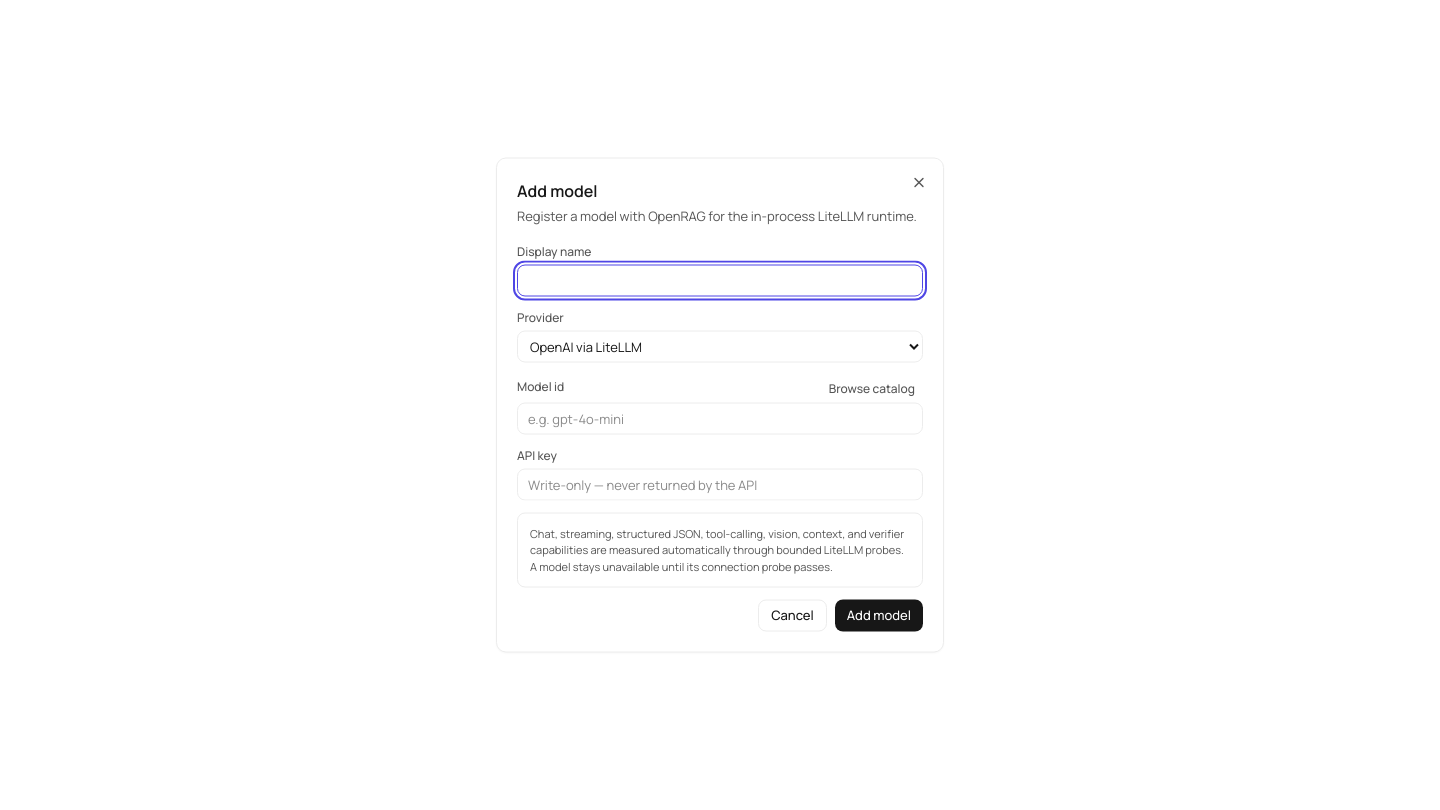
Test: api key is write-only and absent for ollama
Select "Ollama via LiteLLM" in the dropdown labelled "Provider" at [720, 346], box [517,330,923,362]
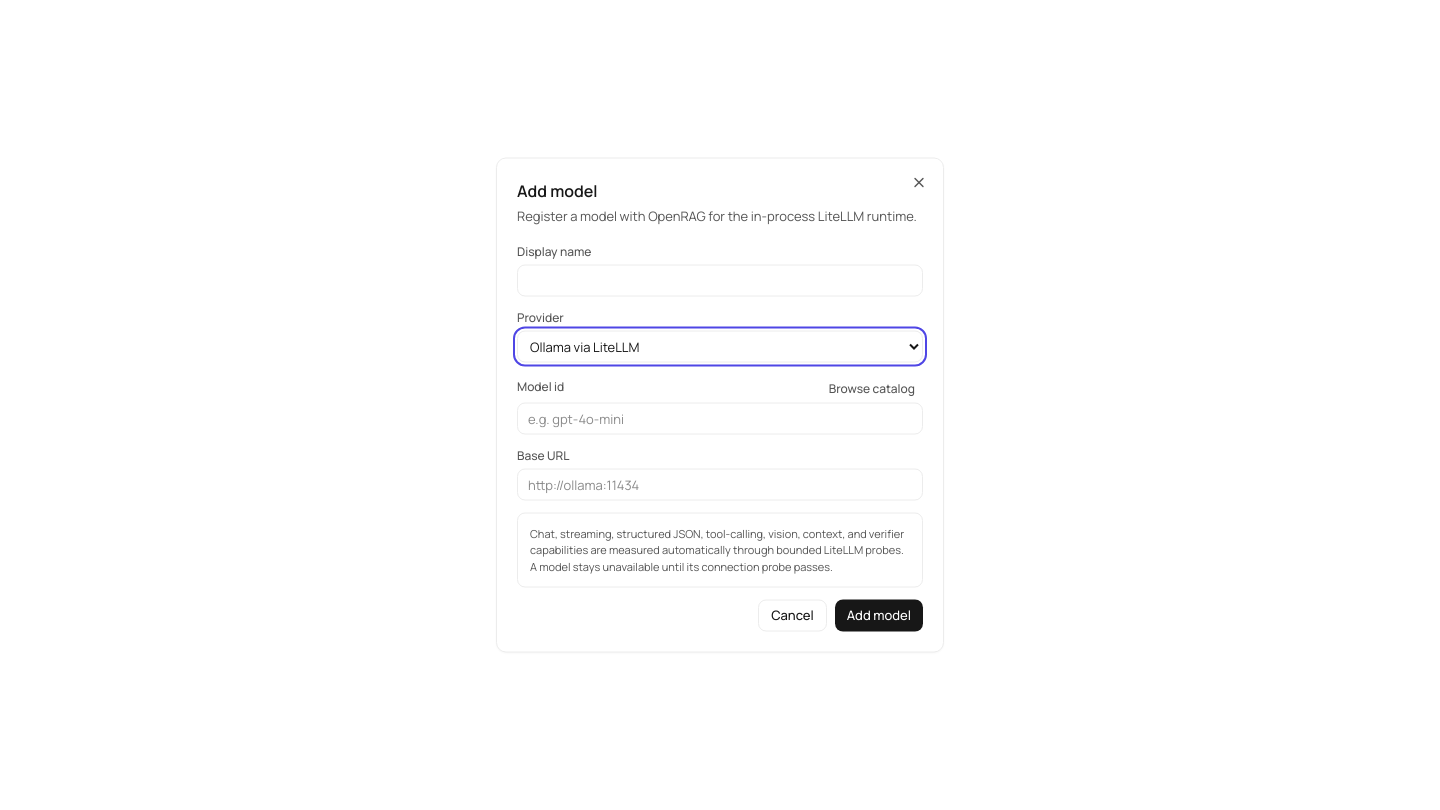
Result: the label labelled "API key" is gone
